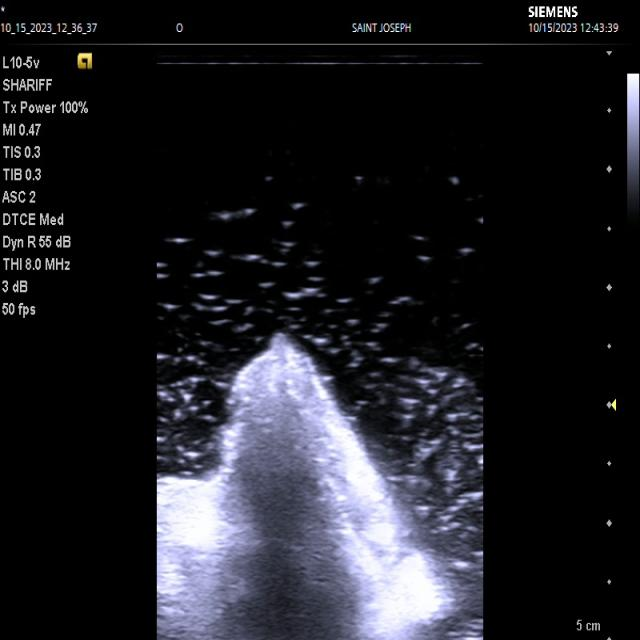tissue: (158, 332, 458, 640)
